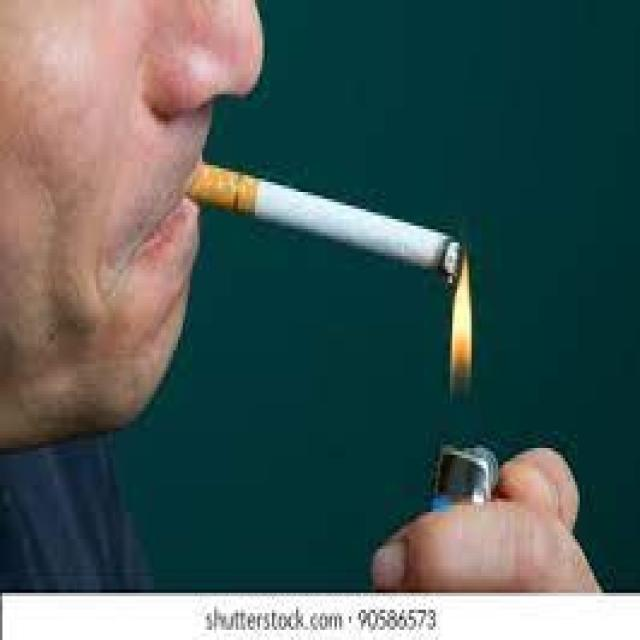fire: (450, 251, 470, 421)
